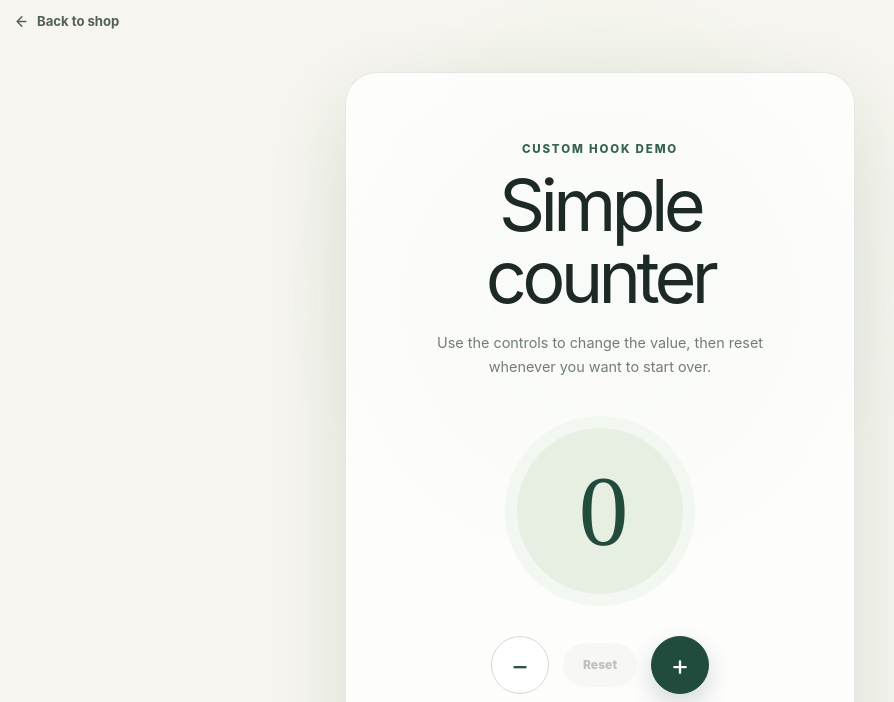
Test case: Counter Testing › Increment the counter testing
Expected: the text named "Current count: 0" is shown, x1=505 y1=416 x2=695 y2=606
Click the button named "Increase count".
click(680, 665)  # box x1=651 y1=636 x2=709 y2=694
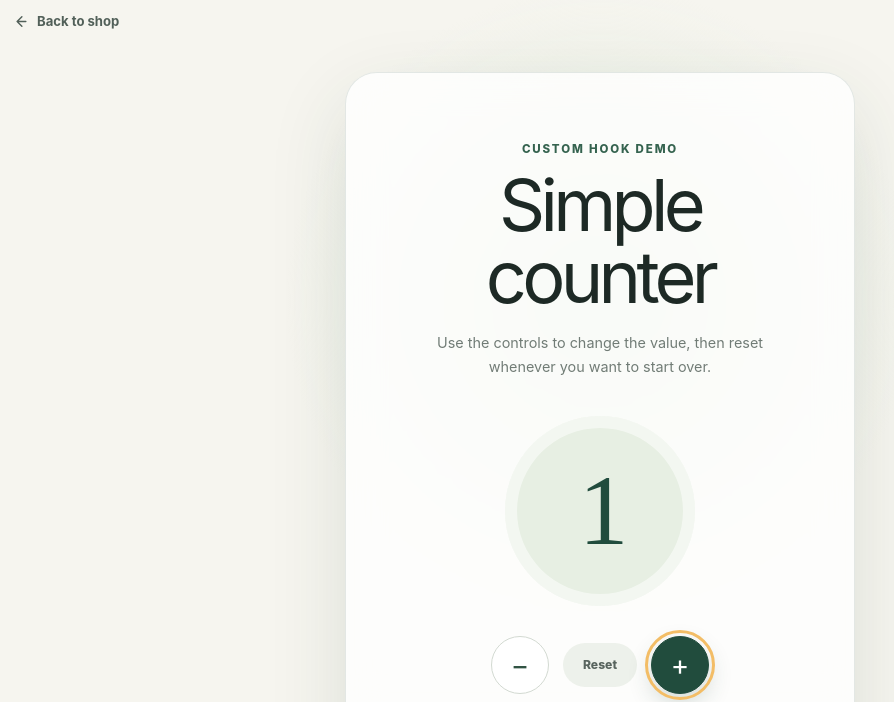
Result: the text named "Current count: 1" is shown at x1=505 y1=416 x2=695 y2=606
